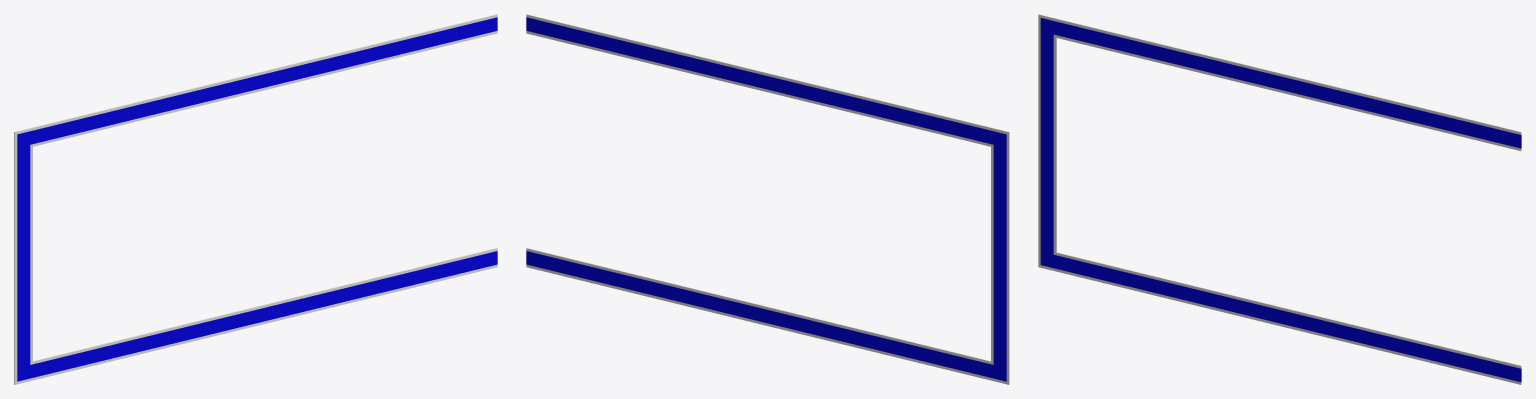
The model's file is park_yeri (1).obj.
3 views of the same model, side by side, from view 1: azimuth 30°, elevation 25°; view 2: azimuth 150°, elevation 25°; view 3: azimuth 330°, elevation 25° (orthographic).
Parts seen in each view (by area): view 1: Plane.002; view 2: Plane.002; view 3: Plane.002.
Part boxes in pixels (x1=…): Plane.002: x1=14, y1=14, x2=497, y2=384; Plane.002: x1=526, y1=14, x2=1009, y2=384; Plane.002: x1=1038, y1=14, x2=1521, y2=384.
Size of the model in its own units: 4 by 2 by 0.01.
